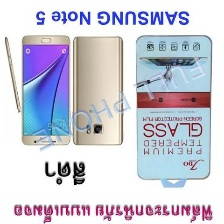book: (133, 31, 215, 184)
phone: (68, 32, 129, 148), (21, 32, 70, 149)
